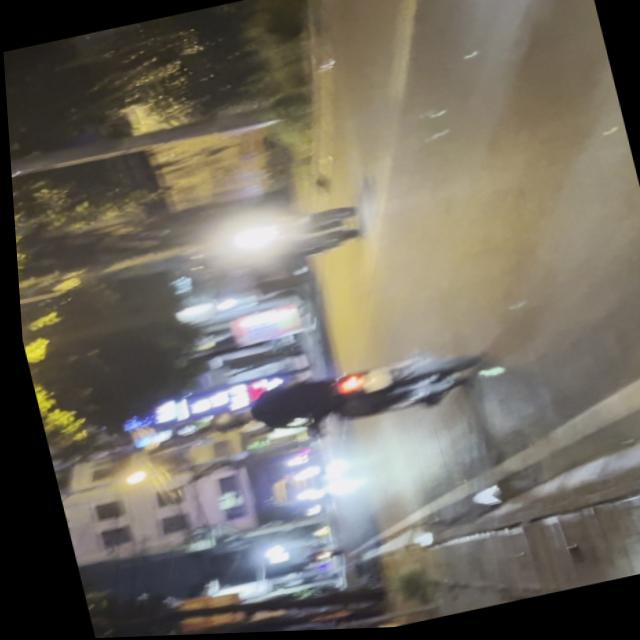helmet: (202, 406, 247, 437)
licenseplate: (192, 339, 486, 456)
nohelmet: (354, 367, 384, 394)
